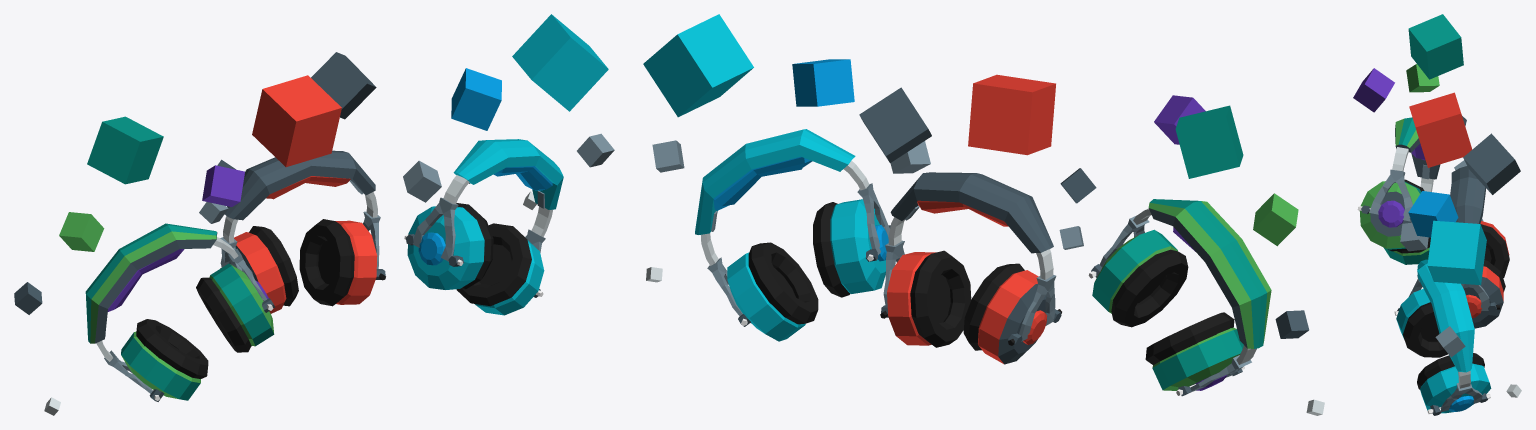
File: Headphones.glb
The picture shows the model from 3 angles, left to right: view 1: azimuth 30°, elevation 25°; view 2: azimuth 150°, elevation 25°; view 3: azimuth 270°, elevation 25°; orthographic projection. The views are drawn at different scales.
Visible parts, largest first — view 1: group1285479440, group1006182260, group255148174, group1926436797, group1128709646, group994663478, group2035190015, group560955369, group873053749, group1131988321, group1928914759, group1557079381 (+1 smaller); view 2: group255148174, group1285479440, group1006182260, group1128709646, group1926436797, group994663478, group560955369, group2035190015, group1131988321, group873053749, group1557079381, group1928914759 (+2 smaller); view 3: group1285479440, group1006182260, group255148174, group1128709646, group1926436797, group994663478, group560955369, group2035190015, group873053749, group1131988321, group1928914759, group1557079381.
Boxes of the visible parts, <box> form: group1285479440: <box>404,139,563,315</box>; group1006182260: <box>85,223,274,401</box>; group255148174: <box>220,150,385,313</box>; group1926436797: <box>252,75,341,167</box>; group1128709646: <box>512,14,608,111</box>; group994663478: <box>87,116,163,184</box>; group2035190015: <box>451,68,501,130</box>; group560955369: <box>311,52,376,119</box>; group873053749: <box>202,165,244,206</box>; group1131988321: <box>59,212,104,251</box>; group1928914759: <box>403,160,441,202</box>; group1557079381: <box>577,133,614,167</box>; group255148174: <box>880,172,1061,364</box>; group1285479440: <box>695,129,890,341</box>; group1006182260: <box>1088,199,1271,396</box>; group1128709646: <box>643,14,753,117</box>; group1926436797: <box>968,74,1055,155</box>; group994663478: <box>1175,105,1243,178</box>; group560955369: <box>859,87,931,162</box>; group2035190015: <box>792,59,854,106</box>; group1131988321: <box>1253,193,1298,246</box>; group873053749: <box>1154,95,1205,144</box>; group1557079381: <box>652,140,684,172</box>; group1928914759: <box>890,141,930,173</box>; group1285479440: <box>1394,259,1491,415</box>; group1006182260: <box>1357,117,1440,264</box>; group255148174: <box>1450,166,1509,328</box>; group1128709646: <box>1427,220,1486,285</box>; group1926436797: <box>1409,92,1472,167</box>; group994663478: <box>1408,14,1463,79</box>; group560955369: <box>1463,133,1520,194</box>; group2035190015: <box>1408,191,1458,237</box>; group873053749: <box>1353,68,1394,112</box>; group1131988321: <box>1406,64,1439,92</box>; group1928914759: <box>1400,222,1428,251</box>; group1557079381: <box>1435,326,1465,357</box>.
Size of the model in its own units: 2.48 by 1.16 by 0.7392.
